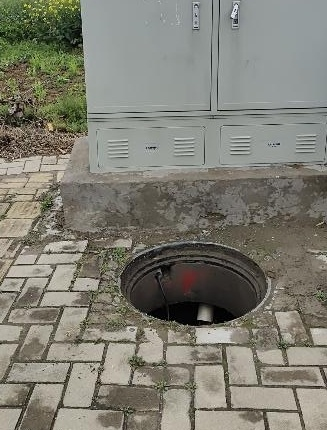lose: (118, 240, 272, 327)
